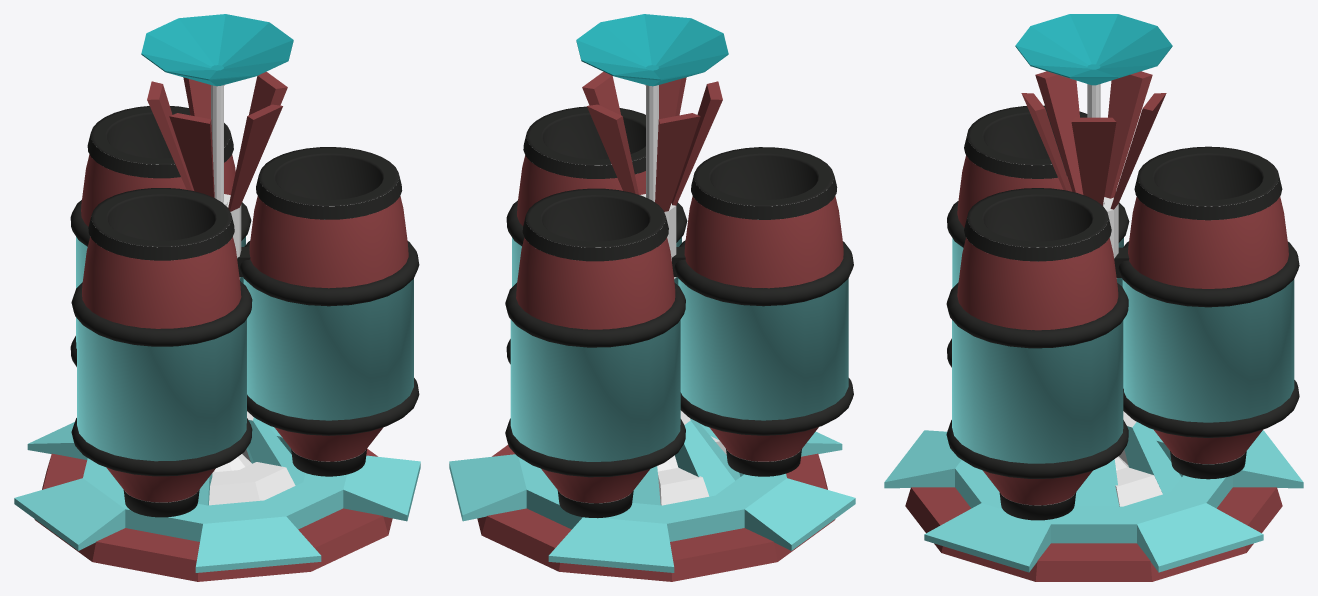
File: Rocket_3.fbx
3 renders of one model, left to right at view 1: azimuth 30°, elevation 25°; view 2: azimuth 150°, elevation 25°; view 3: azimuth 270°, elevation 25°, orthographic.
Visible parts, largest first — view 1: Rocket_lv3; view 2: Rocket_lv3; view 3: Rocket_lv3.
Part boxes in pixels (x1,y1,x2,y2): Rocket_lv3: (14,14,420,581); Rocket_lv3: (449,14,855,581); Rocket_lv3: (884,14,1303,581).
Size of the model in its own units: 211 by 269 by 222.
